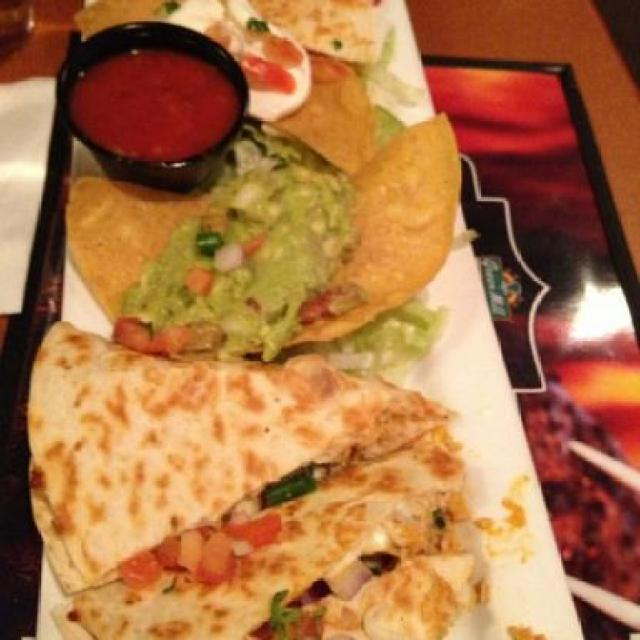chicken quesadilla: (22, 313, 536, 639)
guacamole: (134, 166, 358, 340)
nachos: (58, 156, 464, 352), (255, 64, 390, 158), (66, 2, 171, 36)
